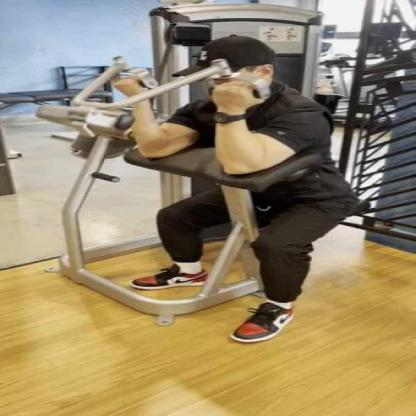arm curl machine: (38, 56, 317, 327)
